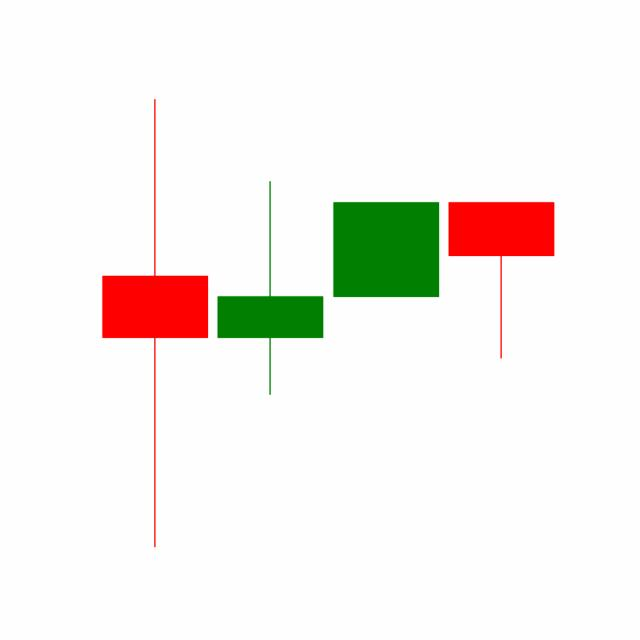Hammer: (443, 199, 559, 360)
